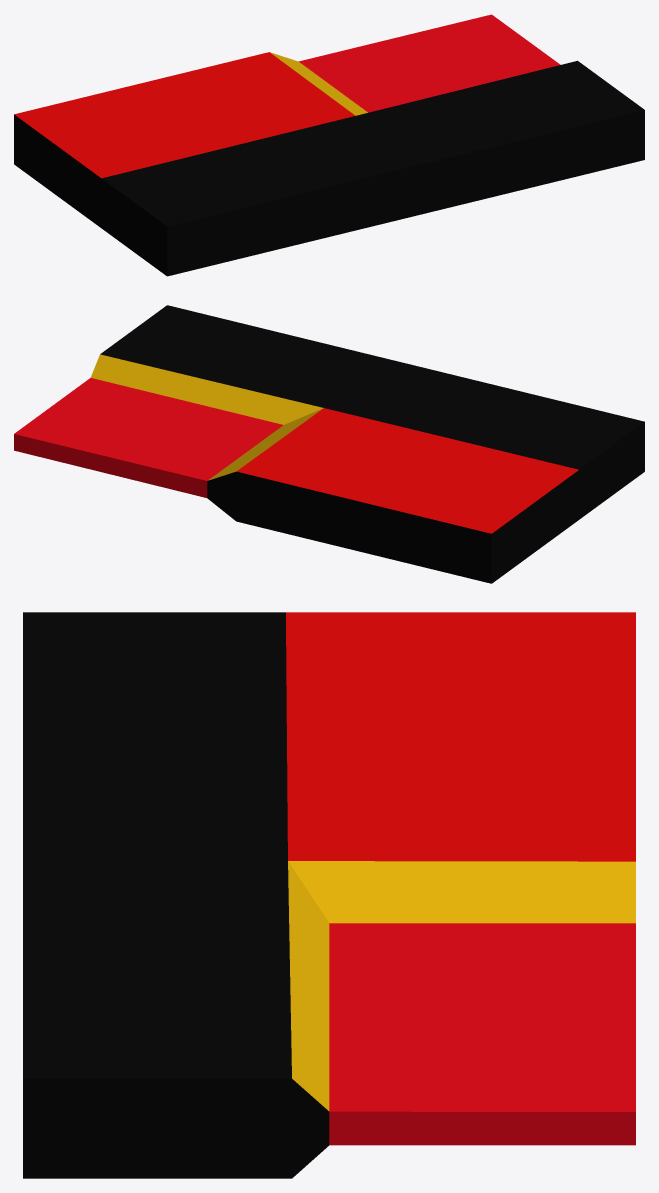
File: Sci-Fi_KeyCard.fbx
3 views of the same model, one above another, from view 1: azimuth 30°, elevation 25°; view 2: azimuth 150°, elevation 25°; view 3: azimuth 270°, elevation 25° (orthographic). The views are drawn at different scales.
Visible parts, largest first — view 1: Cube; view 2: Cube; view 3: Cube.
Part boxes in pixels (x1=…): Cube: x1=14, y1=14, x2=644, y2=276; Cube: x1=14, y1=305, x2=644, y2=583; Cube: x1=23, y1=612, x2=635, y2=1178.
Size of the model in its own units: 18 by 1.8 by 10.
